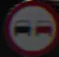No overtake: (5, 6, 54, 45)
